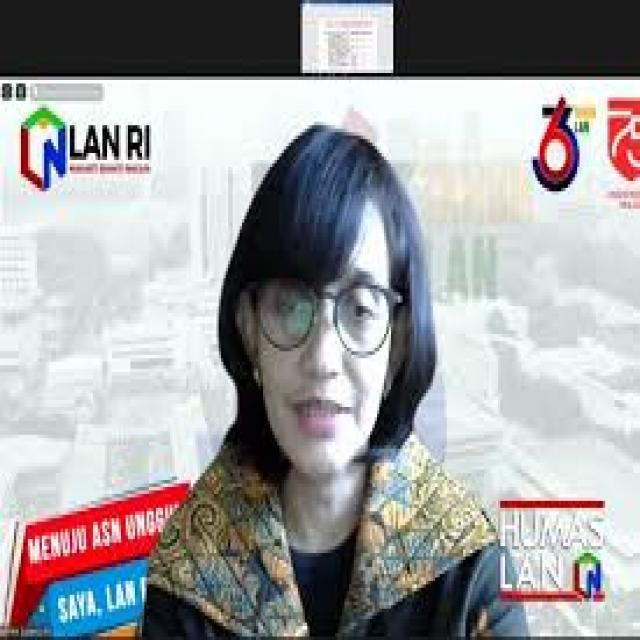Glasses: (242, 268, 405, 358)
